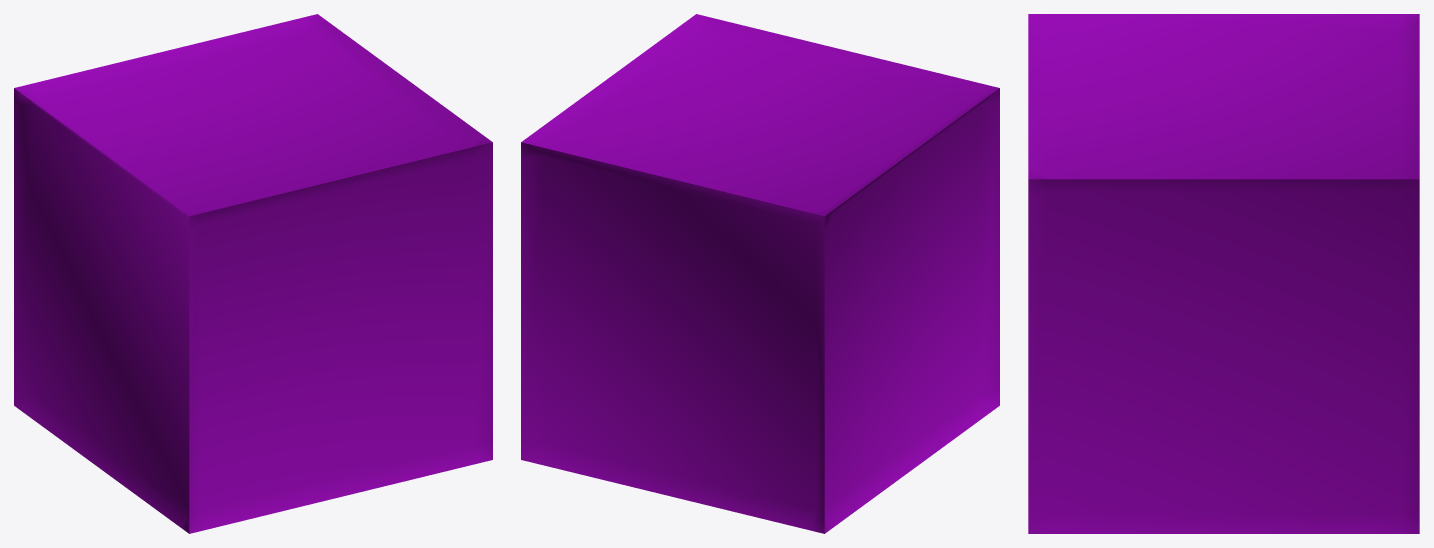
Rendered from BoxPurple.fbx.
The picture shows the model from 3 angles, left to right: view 1: azimuth 30°, elevation 25°; view 2: azimuth 150°, elevation 25°; view 3: azimuth 270°, elevation 25°; orthographic projection. The views are drawn at different scales.
Visible parts, largest first — view 1: pCube1; view 2: pCube1; view 3: pCube1.
Part boxes in pixels (bbox=[...]): pCube1: bbox=[14, 14, 492, 533]; pCube1: bbox=[521, 14, 999, 533]; pCube1: bbox=[1028, 14, 1419, 533].
Bounding box in the file's own units: 1.27 × 1.27 × 1.27.
